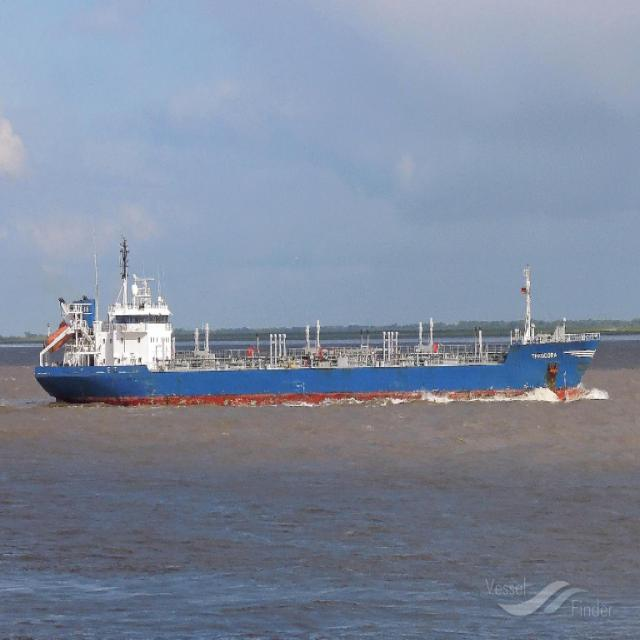OCR: (528, 344, 564, 365)
